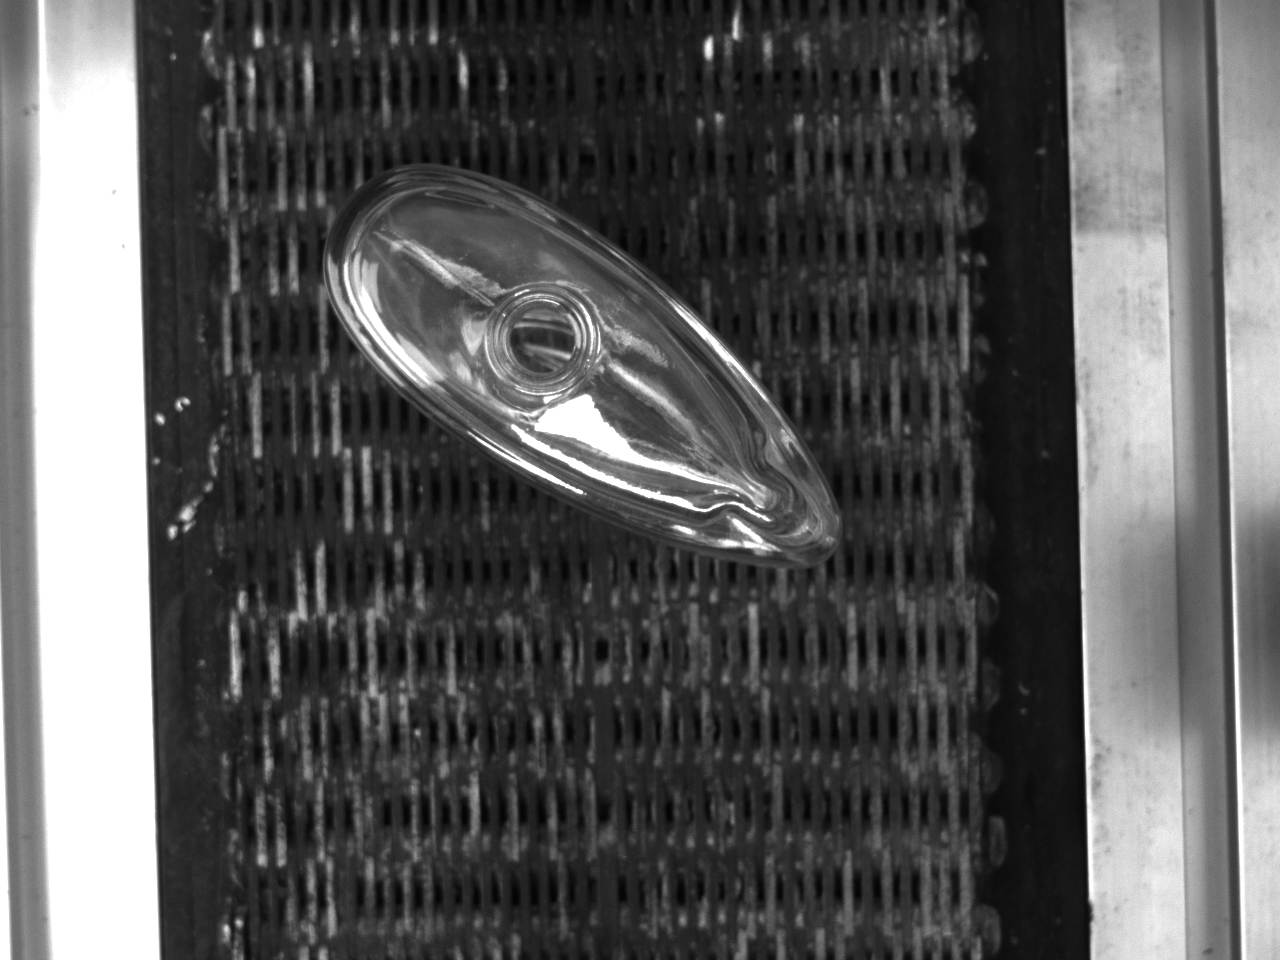bottleneck: (490, 286, 601, 394)
